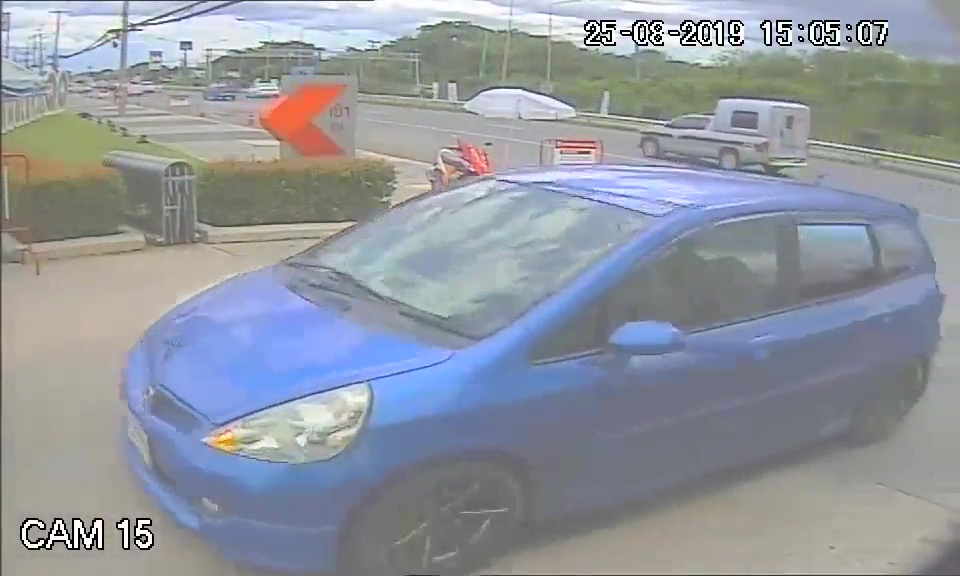sedan: (116, 166, 943, 562)
